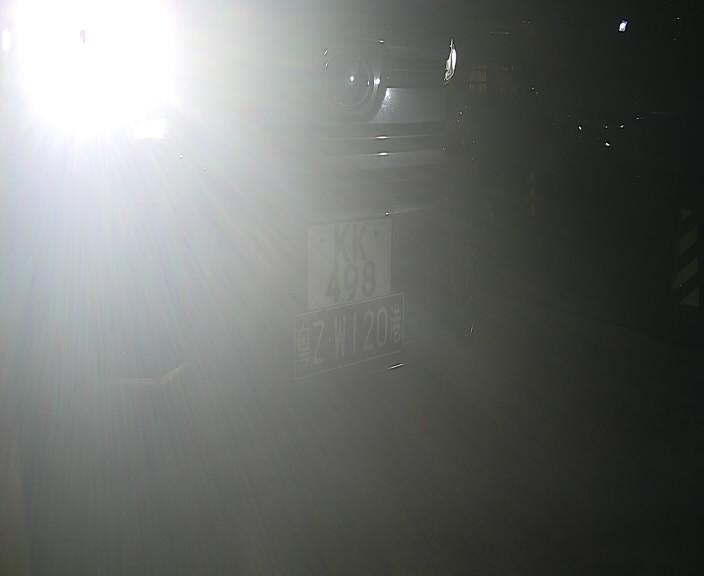Car: (38, 26, 598, 502)
License Plate: (293, 205, 405, 322)
